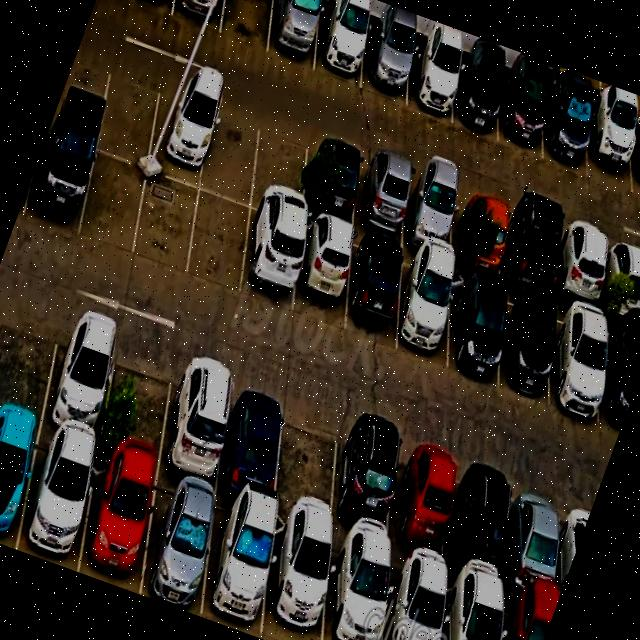empty: (100, 328, 177, 470), (275, 393, 341, 533), (0, 287, 64, 424), (79, 152, 148, 256), (96, 59, 162, 167), (134, 172, 199, 278), (250, 115, 310, 226), (199, 98, 260, 207), (187, 191, 250, 295), (220, 0, 274, 53)
occupied: (17, 428, 96, 572), (41, 306, 120, 447), (80, 450, 156, 595), (140, 472, 215, 617), (201, 494, 275, 639), (160, 350, 234, 491), (217, 371, 288, 509), (333, 412, 402, 553), (391, 431, 455, 573), (262, 515, 330, 640), (455, 453, 514, 592), (23, 128, 97, 237), (506, 471, 561, 609), (147, 78, 215, 189), (293, 216, 353, 331), (324, 538, 389, 640), (344, 233, 402, 347), (397, 251, 451, 369), (550, 302, 603, 422), (240, 211, 299, 314), (499, 287, 551, 401), (448, 271, 499, 387), (0, 414, 41, 549), (303, 133, 361, 228), (384, 555, 444, 640), (504, 202, 556, 299), (356, 151, 409, 243), (455, 185, 505, 279), (404, 166, 455, 258), (314, 4, 368, 88), (602, 318, 640, 435), (498, 71, 547, 159), (586, 104, 632, 194), (543, 86, 588, 177), (452, 58, 501, 141), (406, 41, 454, 123), (561, 220, 603, 311), (361, 26, 410, 104), (444, 575, 502, 640), (268, 0, 320, 71), (605, 235, 640, 324), (501, 593, 556, 640), (172, 0, 225, 33), (629, 118, 640, 197)
